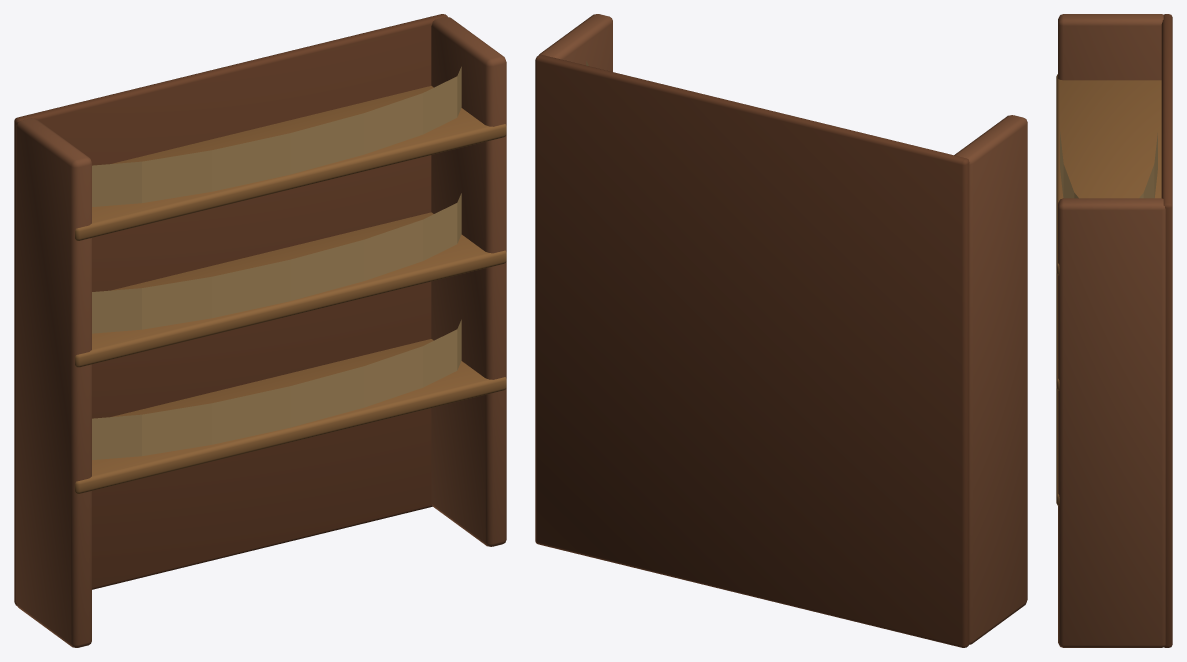
Rendered from f_breadshelf.glb.
3 views of the same model, side by side, from view 1: azimuth 30°, elevation 25°; view 2: azimuth 150°, elevation 25°; view 3: azimuth 270°, elevation 25° (orthographic). The views are drawn at different scales.
Visible parts, largest first — view 1: f_breadshelf; view 2: f_breadshelf; view 3: f_breadshelf.
Boxes of the visible parts, bbox=[...] form: f_breadshelf: bbox=[14, 14, 506, 647]; f_breadshelf: bbox=[535, 14, 1027, 647]; f_breadshelf: bbox=[1056, 14, 1172, 647].
Bounding box in the file's own units: 2.52 × 2.7 × 0.64.
